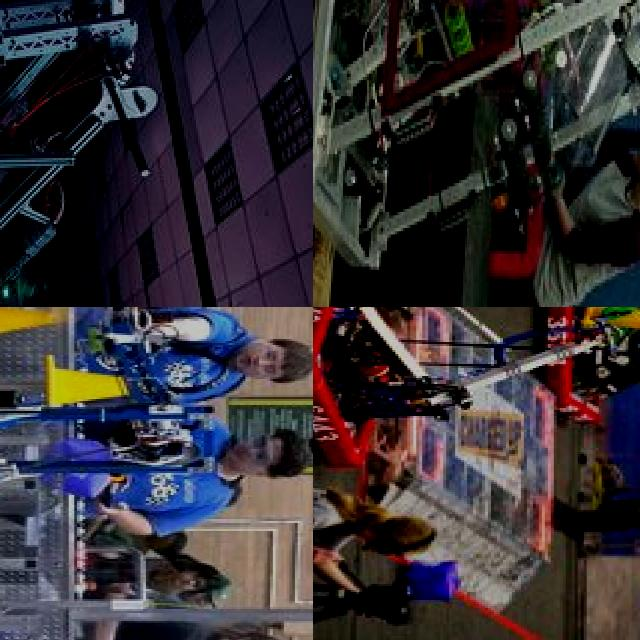FRC-Robots: (313, 0, 640, 307), (0, 0, 189, 307), (0, 307, 205, 583), (313, 307, 612, 466), (540, 307, 640, 449)
